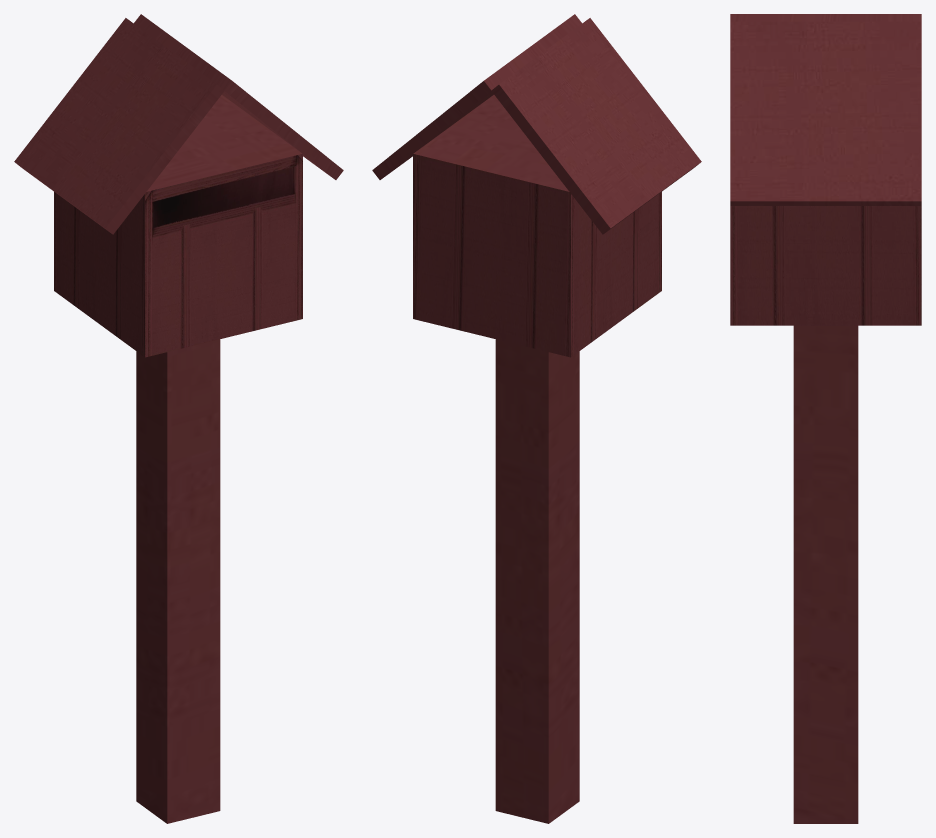
The model's file is LetterBox.fbx.
3 renders of one model, left to right at view 1: azimuth 30°, elevation 25°; view 2: azimuth 150°, elevation 25°; view 3: azimuth 270°, elevation 25°, orthographic. The views are drawn at different scales.
Visible parts, largest first — view 1: pCube16, pCube15, pCube18, pCube17; view 2: pCube16, pCube15, pCube18, pCube17; view 3: pCube17, pCube15, pCube16, pCube18.
Boxes of the visible parts, bbox=[...] form: pCube16: bbox=[54, 95, 302, 357]; pCube15: bbox=[136, 339, 220, 823]; pCube18: bbox=[14, 18, 224, 234]; pCube17: bbox=[134, 14, 343, 179]; pCube16: bbox=[413, 95, 661, 357]; pCube15: bbox=[495, 339, 579, 823]; pCube18: bbox=[491, 18, 701, 234]; pCube17: bbox=[372, 14, 581, 179]; pCube17: bbox=[730, 21, 921, 205]; pCube15: bbox=[793, 325, 858, 823]; pCube16: bbox=[730, 206, 921, 325]; pCube18: bbox=[730, 14, 921, 21].
Bounding box in the file's own units: 0.4747 × 1.44 × 0.3143.
